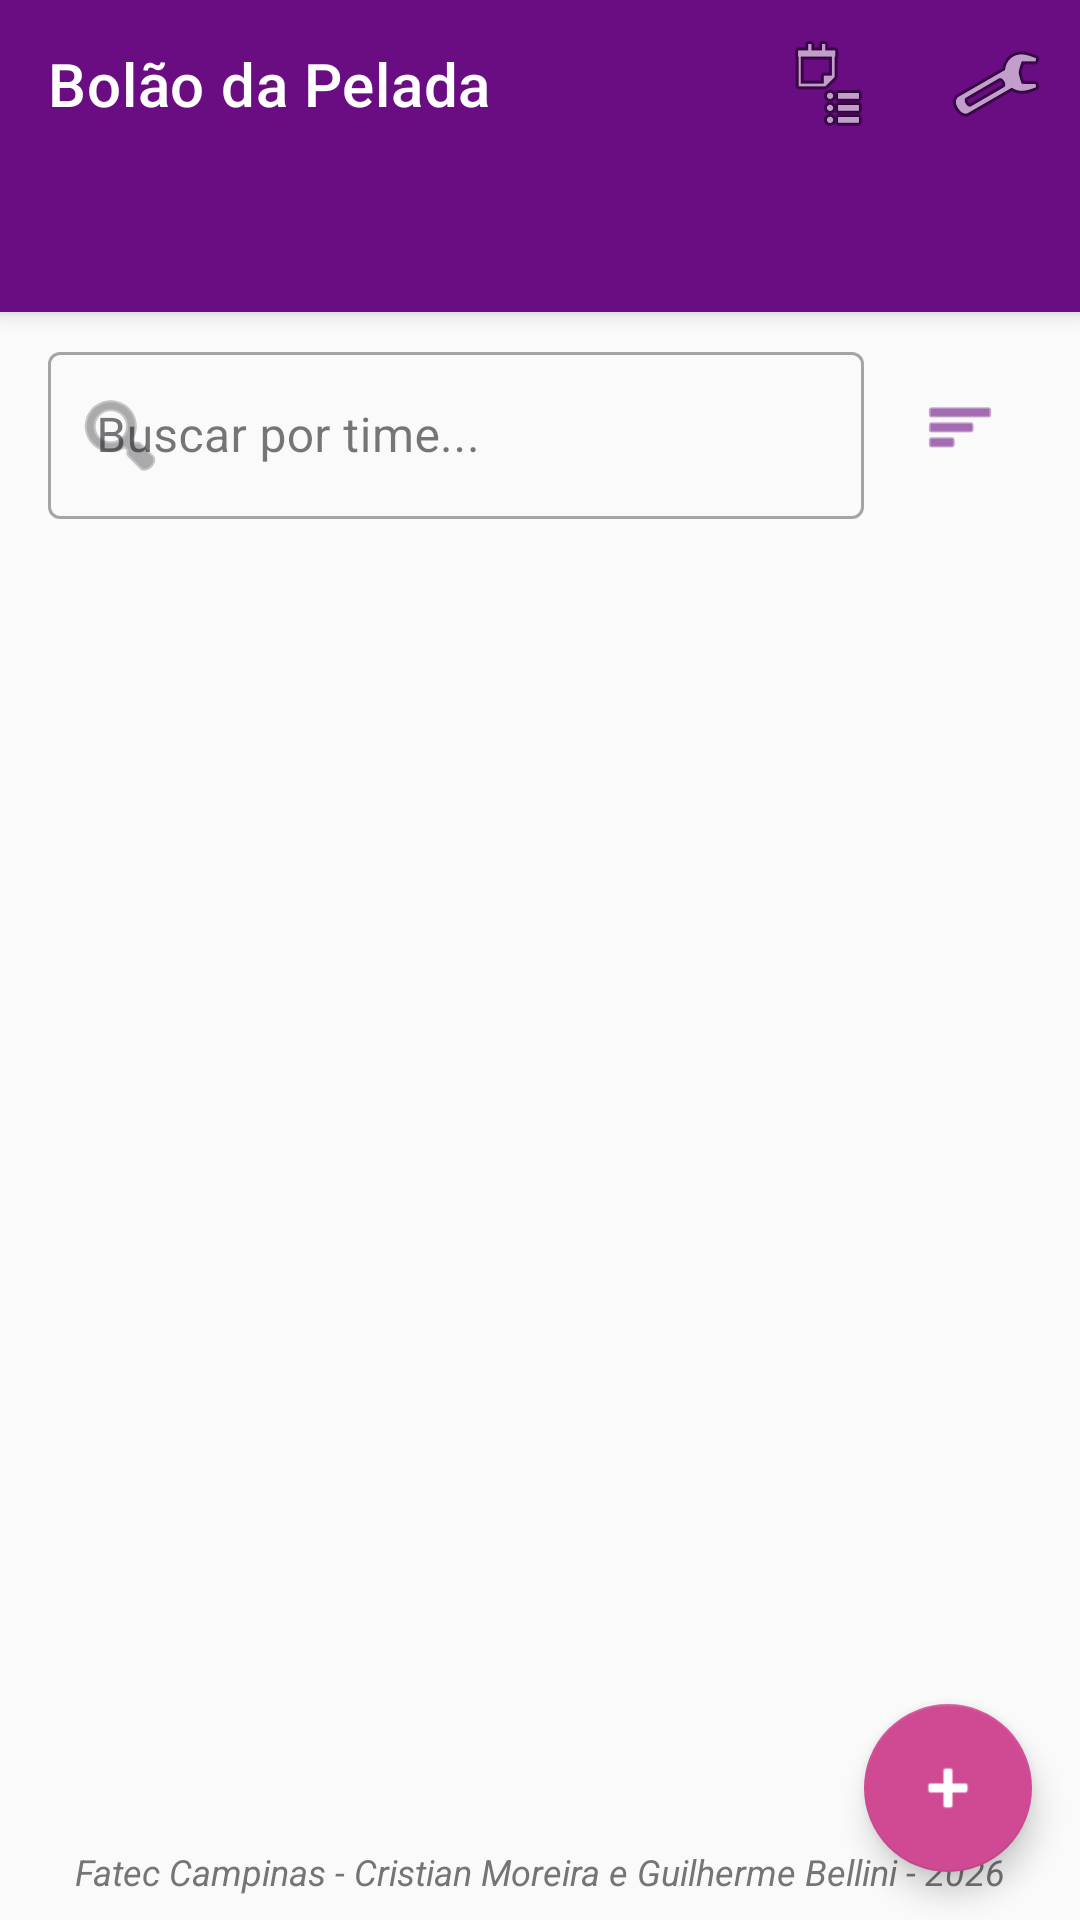

Where to tap for icons on this 1080×1920 app screen, as [x,y]:
Adicionar Partida: [948,1788]
Ordenar: [960,427]
